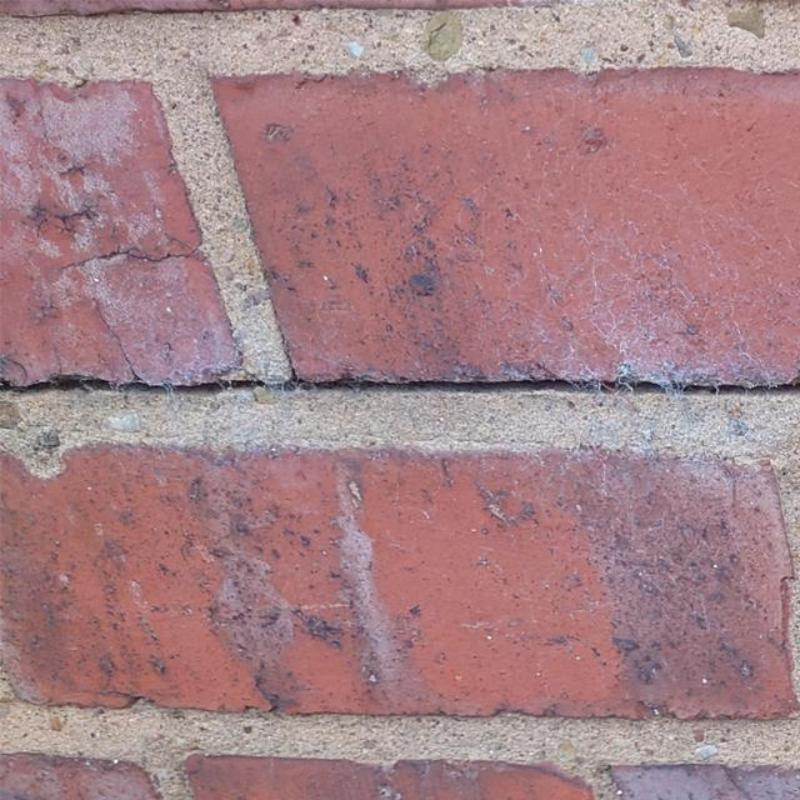pothole: (1, 370, 799, 394), (89, 299, 146, 383), (60, 246, 197, 268)
